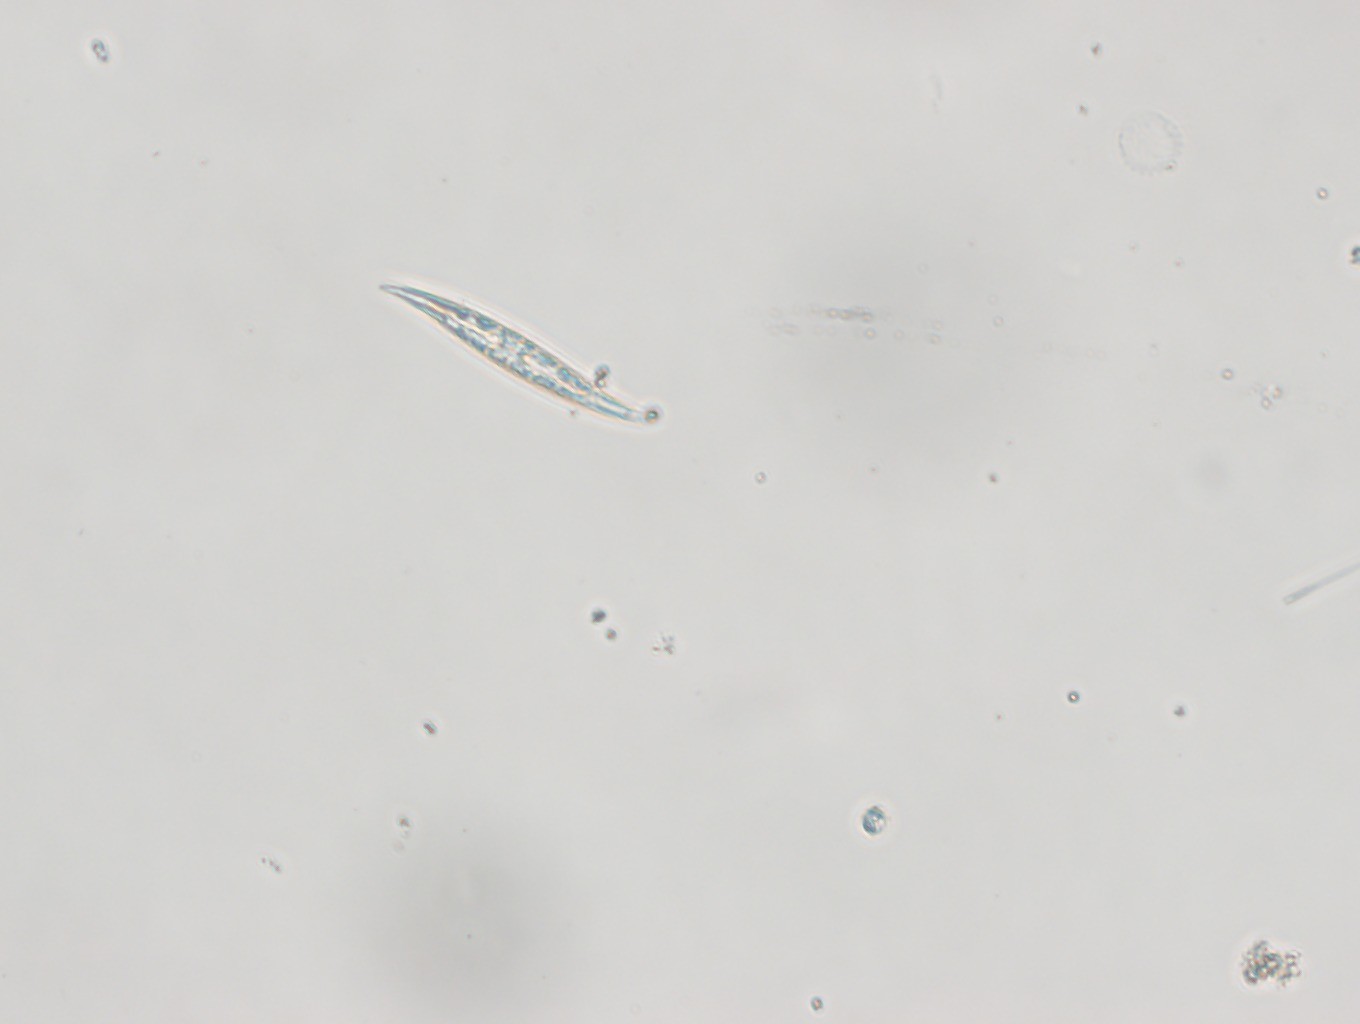pleurosigma pelagicum: (372, 281, 662, 428)
